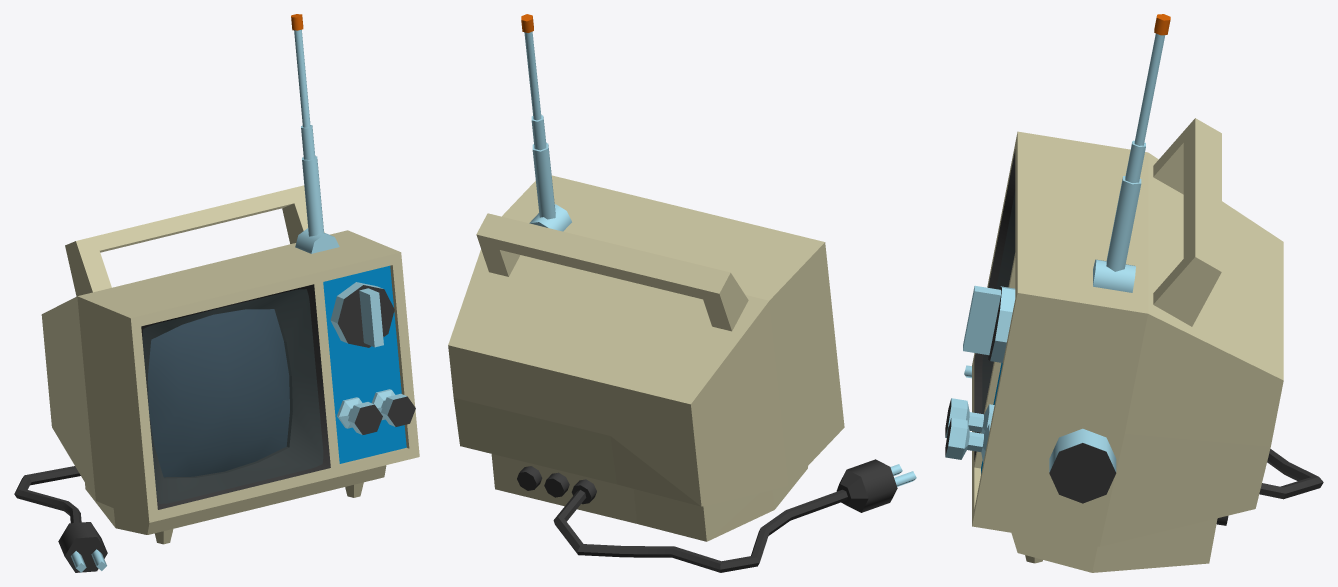
3 views of the same model, side by side, from view 1: azimuth 30°, elevation 25°; view 2: azimuth 150°, elevation 25°; view 3: azimuth 270°, elevation 25° (orthographic). The views are drawn at different scales.
Visible parts, largest first — view 1: Box10783_yellow2_0, Plane016_glass_0, Box10783_screen_0, Box10783_black_0, Box10783_blue_0, Box10786_yellow2_0, Box10783_metal_0, Line170_black_0, Cylinder501_black_0, Cylinder451_metal_0, Cylinder452_metal_0, Cylinder450_metal_0; view 2: Box10783_yellow2_0, Box10786_yellow2_0, Line170_black_0, Cylinder501_black_0, Cylinder451_metal_0, Cylinder452_metal_0; view 3: Box10783_yellow2_0, Box10786_yellow2_0, Box10783_metal_0, Cylinder455, Box10783_black_0, Cylinder451_metal_0, Line170_black_0, Plane016_glass_0, Cylinder452_metal_0, Cylinder450_metal_0, Cylinder454_metal_0.
Boxes of the visible parts, x1,y1,x2,y2 form: Box10783_yellow2_0: (41,230,419,544); Plane016_glass_0: (143,289,322,503); Box10783_screen_0: (148,309,289,477); Box10783_black_0: (141,284,415,509); Box10783_blue_0: (323,265,406,463); Box10786_yellow2_0: (65,185,324,296); Box10783_metal_0: (330,282,406,434); Line170_black_0: (14,466,81,523); Cylinder501_black_0: (58,522,107,572); Cylinder451_metal_0: (302,156,323,236); Cylinder452_metal_0: (294,29,310,127); Cylinder450_metal_0: (295,228,339,253); Box10783_yellow2_0: (448,175,844,541); Box10786_yellow2_0: (476,213,748,331); Line170_black_0: (553,489,847,572); Cylinder501_black_0: (836,459,897,512); Cylinder451_metal_0: (532,143,555,219); Cylinder452_metal_0: (524,31,541,120); Box10783_yellow2_0: (972,131,1283,572); Box10786_yellow2_0: (1153,118,1221,326); Box10783_metal_0: (945,285,1015,462); Cylinder455: (1049,428,1116,503); Box10783_black_0: (945,149,1015,461); Cylinder451_metal_0: (1106,176,1141,271); Line170_black_0: (1259,449,1323,499); Plane016_glass_0: (982,194,1014,413); Cylinder452_metal_0: (1134,33,1165,145); Cylinder450_metal_0: (1093,259,1135,292); Cylinder454_metal_0: (1125,140,1145,182).
Bounding box in the file's own units: 0.1207 × 0.1404 × 0.0886.
